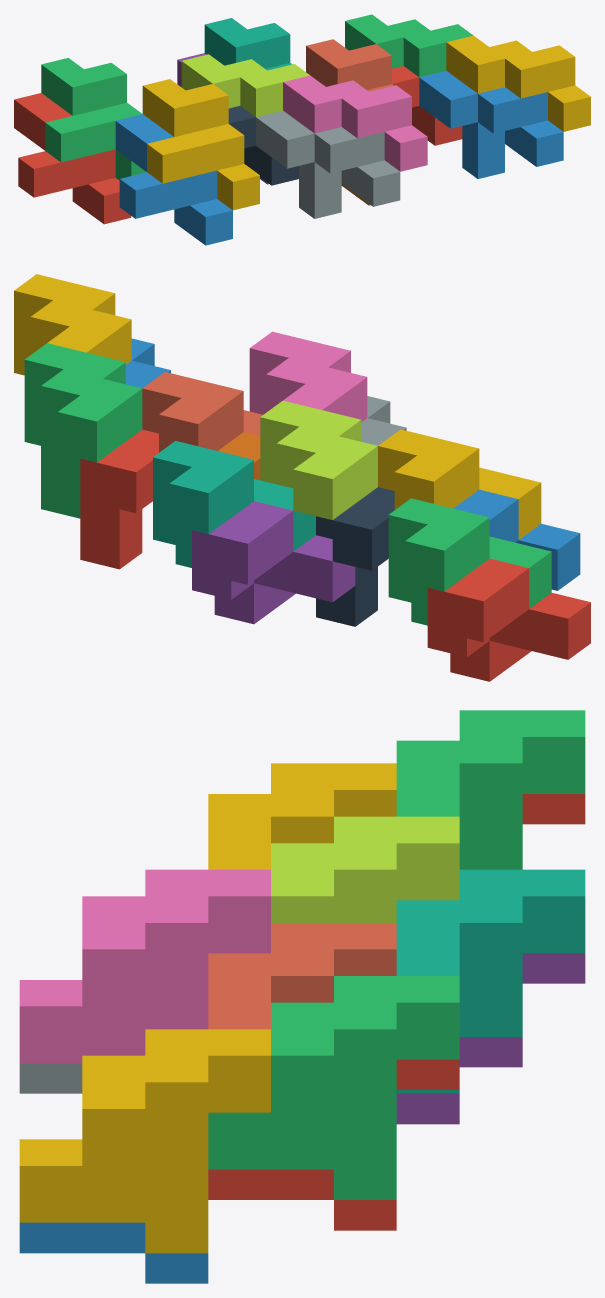
Rendered from tiling.obj.
3 views of the same model, one above another, from view 1: azimuth 30°, elevation 25°; view 2: azimuth 150°, elevation 25°; view 3: azimuth 270°, elevation 25° (orthographic). The views are drawn at different scales.
Parts seen in each view (by area): view 1: copy_1_domain_4, copy_2_domain_2, copy_2_domain_6, copy_1_domain_3, copy_2_domain_4, copy_2_domain_8, copy_1_domain_2, copy_1_domain_1, copy_2_domain_3, copy_2_domain_7, copy_1_domain_7, copy_1_domain_8 (+2 smaller); view 2: copy_2_domain_7, copy_1_domain_1, copy_1_domain_5, copy_1_domain_3, copy_2_domain_3, copy_1_domain_7, copy_1_domain_4, copy_2_domain_5, copy_2_domain_8, copy_2_domain_4, copy_1_domain_8, copy_2_domain_1 (+4 smaller); view 3: copy_2_domain_8, copy_2_domain_7, copy_2_domain_4, copy_1_domain_7, copy_1_domain_3, copy_2_domain_3, copy_1_domain_4, copy_1_domain_8, copy_2_domain_5, copy_2_domain_6, copy_1_domain_5, copy_2_domain_2 (+1 smaller).
Boxes of the visible parts, x1,y1,x2,y2 form: copy_1_domain_4: [142, 79, 259, 210]; copy_2_domain_2: [256, 110, 400, 218]; copy_2_domain_6: [419, 70, 563, 178]; copy_1_domain_3: [41, 58, 146, 180]; copy_2_domain_4: [283, 75, 427, 171]; copy_2_domain_8: [446, 35, 590, 131]; copy_1_domain_2: [115, 114, 232, 245]; copy_1_domain_1: [14, 93, 131, 224]; copy_2_domain_3: [181, 54, 309, 116]; copy_2_domain_7: [345, 14, 473, 77]; copy_1_domain_7: [204, 18, 292, 70]; copy_1_domain_8: [306, 39, 393, 91]; copy_2_domain_7: [24, 343, 142, 518]; copy_1_domain_1: [427, 558, 590, 681]; copy_1_domain_5: [192, 501, 355, 624]; copy_1_domain_3: [388, 498, 551, 625]; copy_2_domain_3: [260, 400, 377, 519]; copy_1_domain_7: [153, 441, 315, 567]; copy_1_domain_4: [378, 429, 541, 539]; copy_2_domain_5: [80, 429, 158, 569]; copy_2_domain_8: [14, 274, 131, 375]; copy_2_domain_4: [249, 331, 367, 422]; copy_1_domain_8: [142, 372, 262, 452]; copy_2_domain_1: [316, 487, 394, 626]; copy_2_domain_8: [19, 1029, 270, 1253]; copy_2_domain_7: [208, 976, 459, 1199]; copy_2_domain_4: [19, 869, 270, 1063]; copy_1_domain_7: [396, 869, 585, 1093]; copy_1_domain_3: [396, 710, 585, 869]; copy_2_domain_3: [271, 816, 459, 922]; copy_1_domain_4: [208, 763, 396, 869]; copy_1_domain_8: [208, 923, 396, 1029]; copy_2_domain_5: [208, 1059, 459, 1230]; copy_2_domain_6: [19, 1222, 208, 1283]; copy_1_domain_5: [396, 953, 585, 1124]; copy_2_domain_2: [19, 1063, 82, 1093].
Size of the model in its own units: 17 by 4 by 9.
